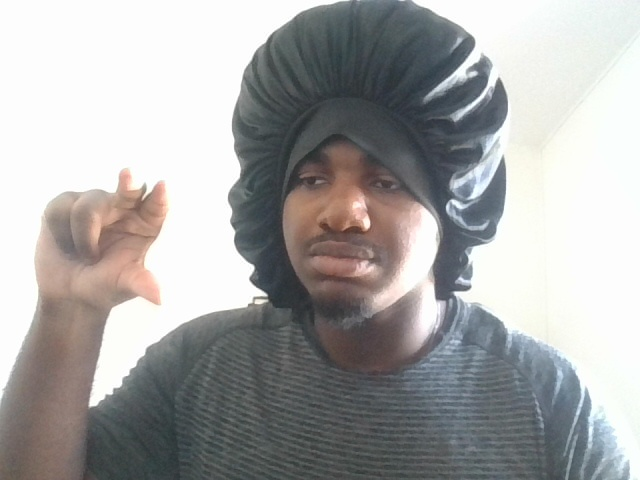No: (24, 158, 223, 329)
